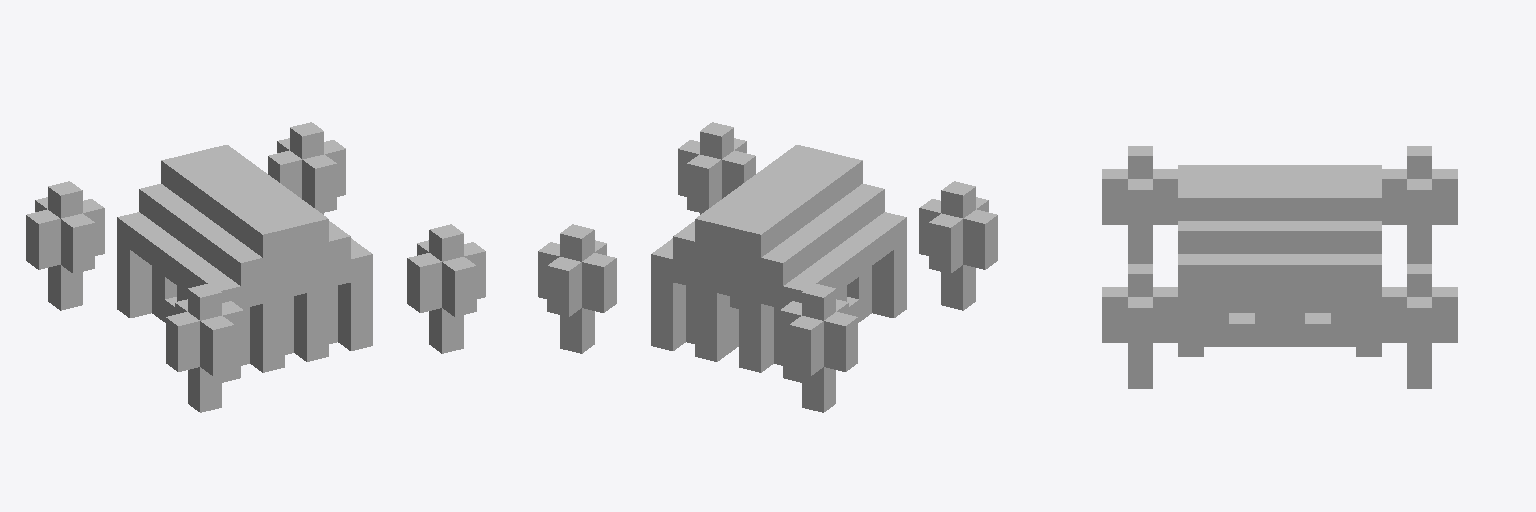
Rendered from civ_library.obj.
3 views of the same model, side by side, from view 1: azimuth 30°, elevation 25°; view 2: azimuth 150°, elevation 25°; view 3: azimuth 270°, elevation 25° (orthographic).
Visible parts, largest first — view 1: model; view 2: model; view 3: model.
Boxes of the visible parts, x1=… form: model: x1=26, y1=122, x2=485, y2=412; model: x1=538, y1=122, x2=997, y2=412; model: x1=1102, y1=146, x2=1457, y2=388.
Size of the model in its own units: 0.875 by 0.375 by 0.875.